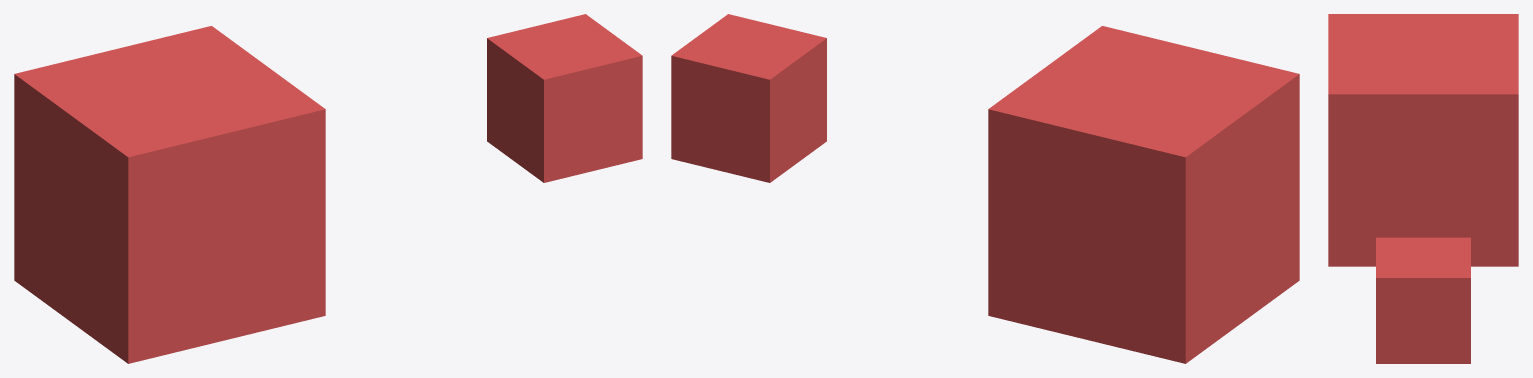
Rendered from two-boxes.glb.
3 views of the same model, side by side, from view 1: azimuth 30°, elevation 25°; view 2: azimuth 150°, elevation 25°; view 3: azimuth 270°, elevation 25° (orthographic). The views are drawn at different scales.
Visible parts, largest first — view 1: root, child; view 2: root, child; view 3: root, child.
Part boxes in pixels (x1=…): root: x1=14, y1=26, x2=325, y2=363; child: x1=487, y1=14, x2=642, y2=182; root: x1=988, y1=26, x2=1299, y2=363; child: x1=671, y1=14, x2=826, y2=182; root: x1=1328, y1=14, x2=1518, y2=266; child: x1=1376, y1=237, x2=1470, y2=363.
Size of the model in its own units: 2.75 by 1 by 1.
